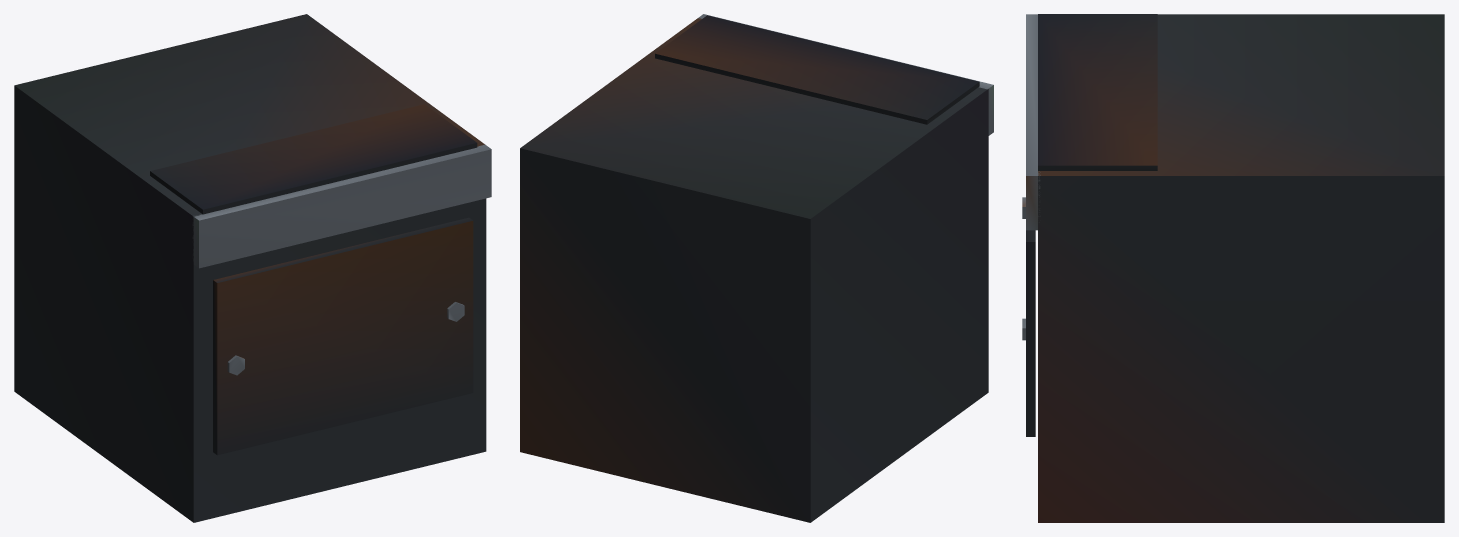
Rendered from tile_floor.glb.
3 renders of one model, left to right at view 1: azimuth 30°, elevation 25°; view 2: azimuth 150°, elevation 25°; view 3: azimuth 270°, elevation 25°, orthographic. The views are drawn at different scales.
Parts seen in each view (by area): view 1: tile_floor; view 2: tile_floor; view 3: tile_floor.
Part boxes in pixels (box(x1,y1,x2,y2)): tile_floor: box(14, 14, 491, 522); tile_floor: box(520, 14, 993, 522); tile_floor: box(1022, 14, 1444, 522).
Bounding box in the file's own units: 32 × 32.5 × 35.3.
